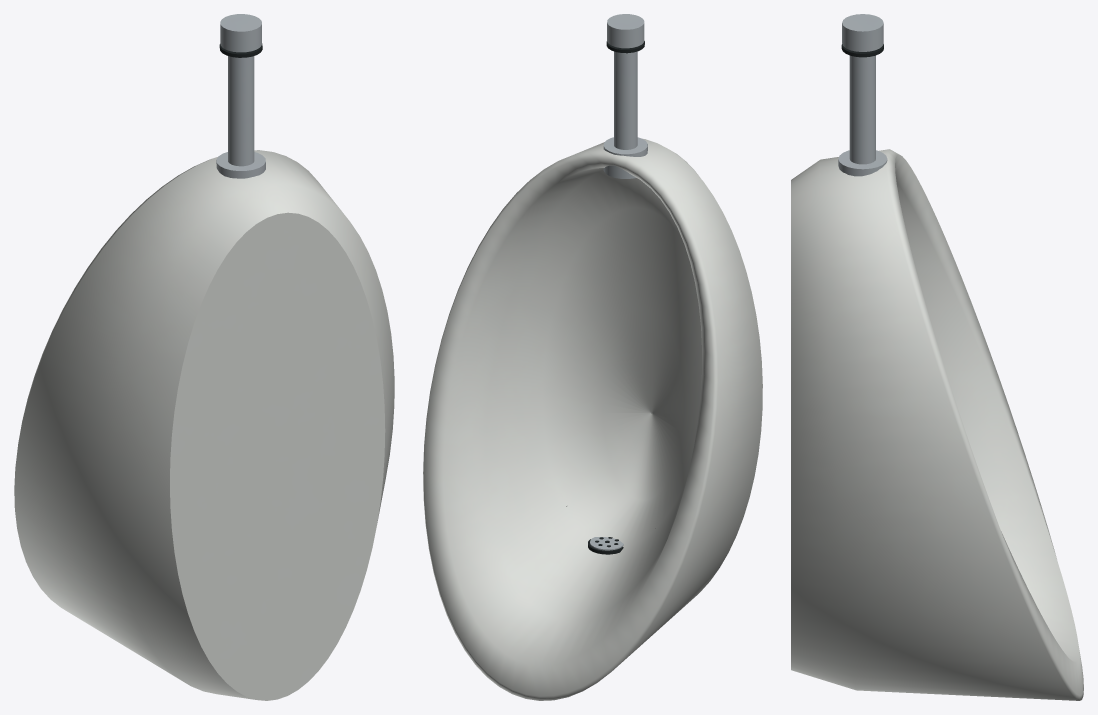
File: mictorio_realista.glb
3 views of the same model, side by side, from view 1: azimuth 30°, elevation 25°; view 2: azimuth 150°, elevation 25°; view 3: azimuth 270°, elevation 25° (orthographic). The views are drawn at different scales.
Visible parts, largest first — view 1: Mictorio; view 2: Mictorio; view 3: Mictorio.
Part boxes in pixels (x1,y1,x2,y2): Mictorio: (14, 14, 394, 700); Mictorio: (423, 14, 762, 700); Mictorio: (791, 14, 1083, 700).
Bounding box in the file's own units: 0.38 × 0.78 × 0.31.
1 material, 1 textured.
